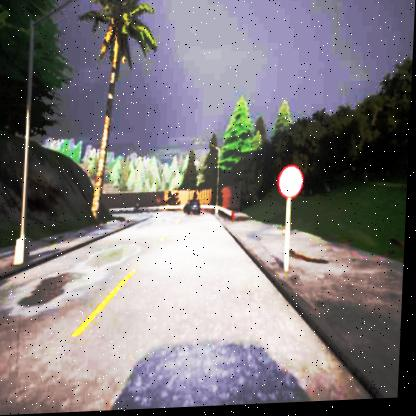vehicle: (185, 202, 203, 217)
